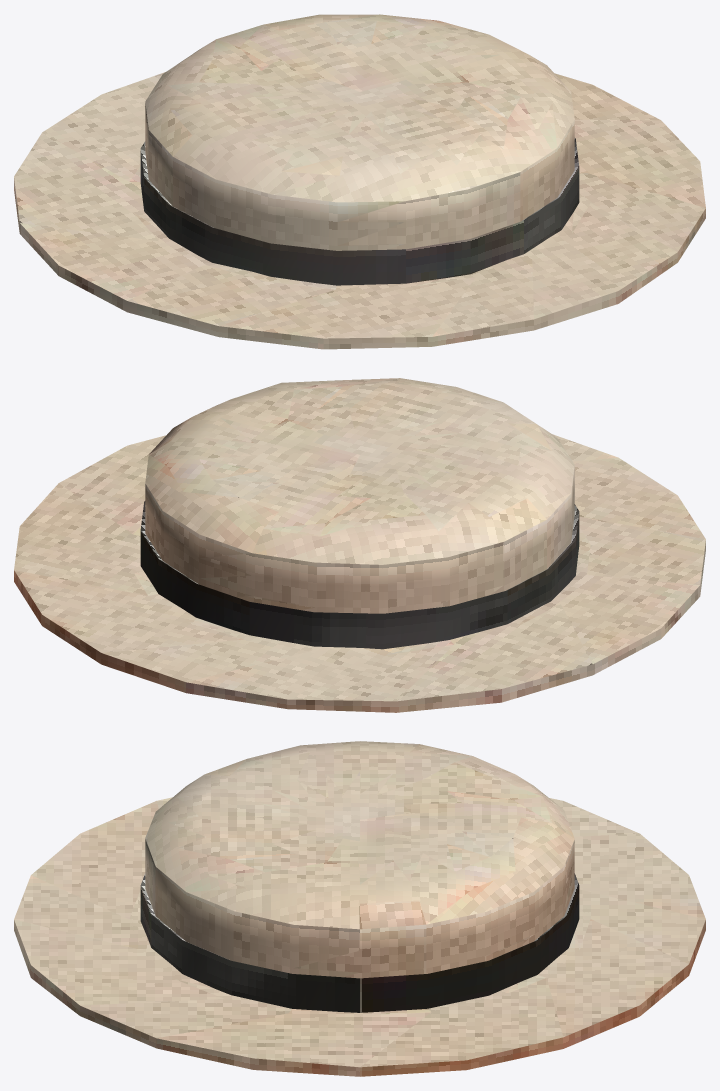
Rendered from gg_wear_boater.glb.
3 views of the same model, one above another, from view 1: azimuth 30°, elevation 25°; view 2: azimuth 150°, elevation 25°; view 3: azimuth 270°, elevation 25° (orthographic).
Parts seen in each view (by area): view 1: mesh; view 2: mesh; view 3: mesh.
Part boxes in pixels (x1=…): mesh: x1=14, y1=14, x2=705, y2=349; mesh: x1=14, y1=378, x2=705, y2=712; mesh: x1=14, y1=741, x2=705, y2=1076.
Bounding box in the file's own units: 0.5236 × 0.1 × 0.5236.
1 material, 1 textured.
